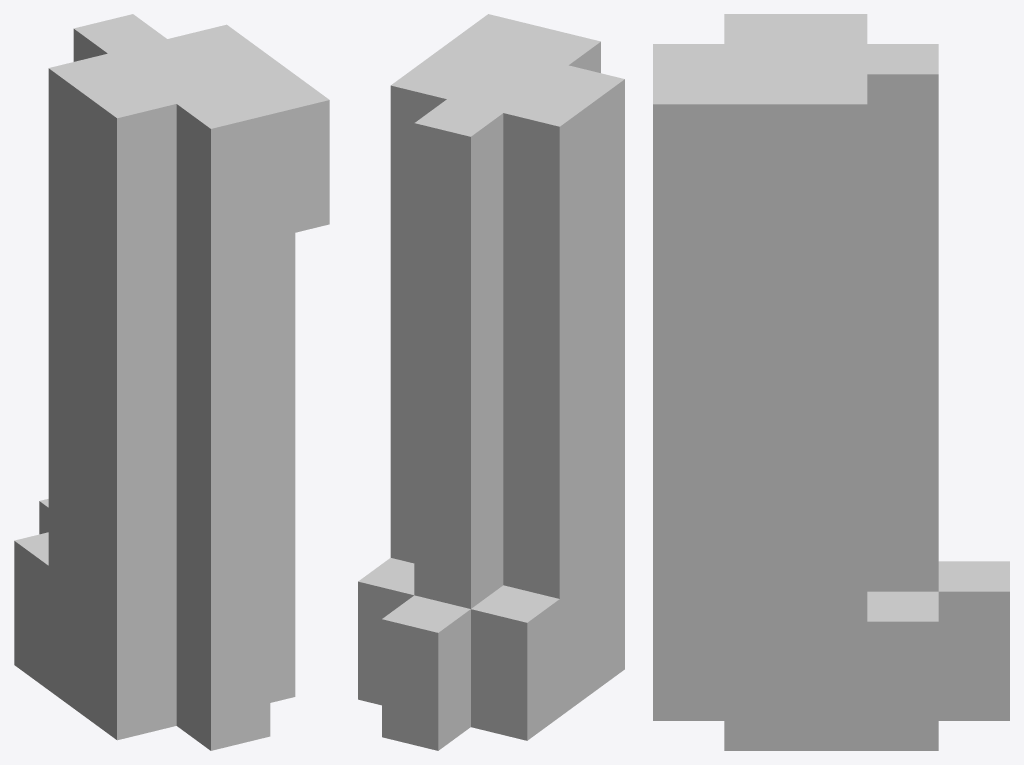
File: Bernard_Leg_Front_Right_Lower.obj
3 views of the same model, side by side, from view 1: azimuth 30°, elevation 25°; view 2: azimuth 150°, elevation 25°; view 3: azimuth 270°, elevation 25° (orthographic). The views are drawn at different scales.
Visible parts, largest first — view 1: Bernard; view 2: Bernard; view 3: Bernard.
Boxes of the visible parts, box(x1,y1,x2,y2) form: Bernard: box(14, 14, 329, 750); Bernard: box(358, 14, 624, 750); Bernard: box(653, 14, 1009, 750).
Bounding box in the file's own units: 0.3 × 1 × 0.5.
Materials: 1 (1 with a texture image).
